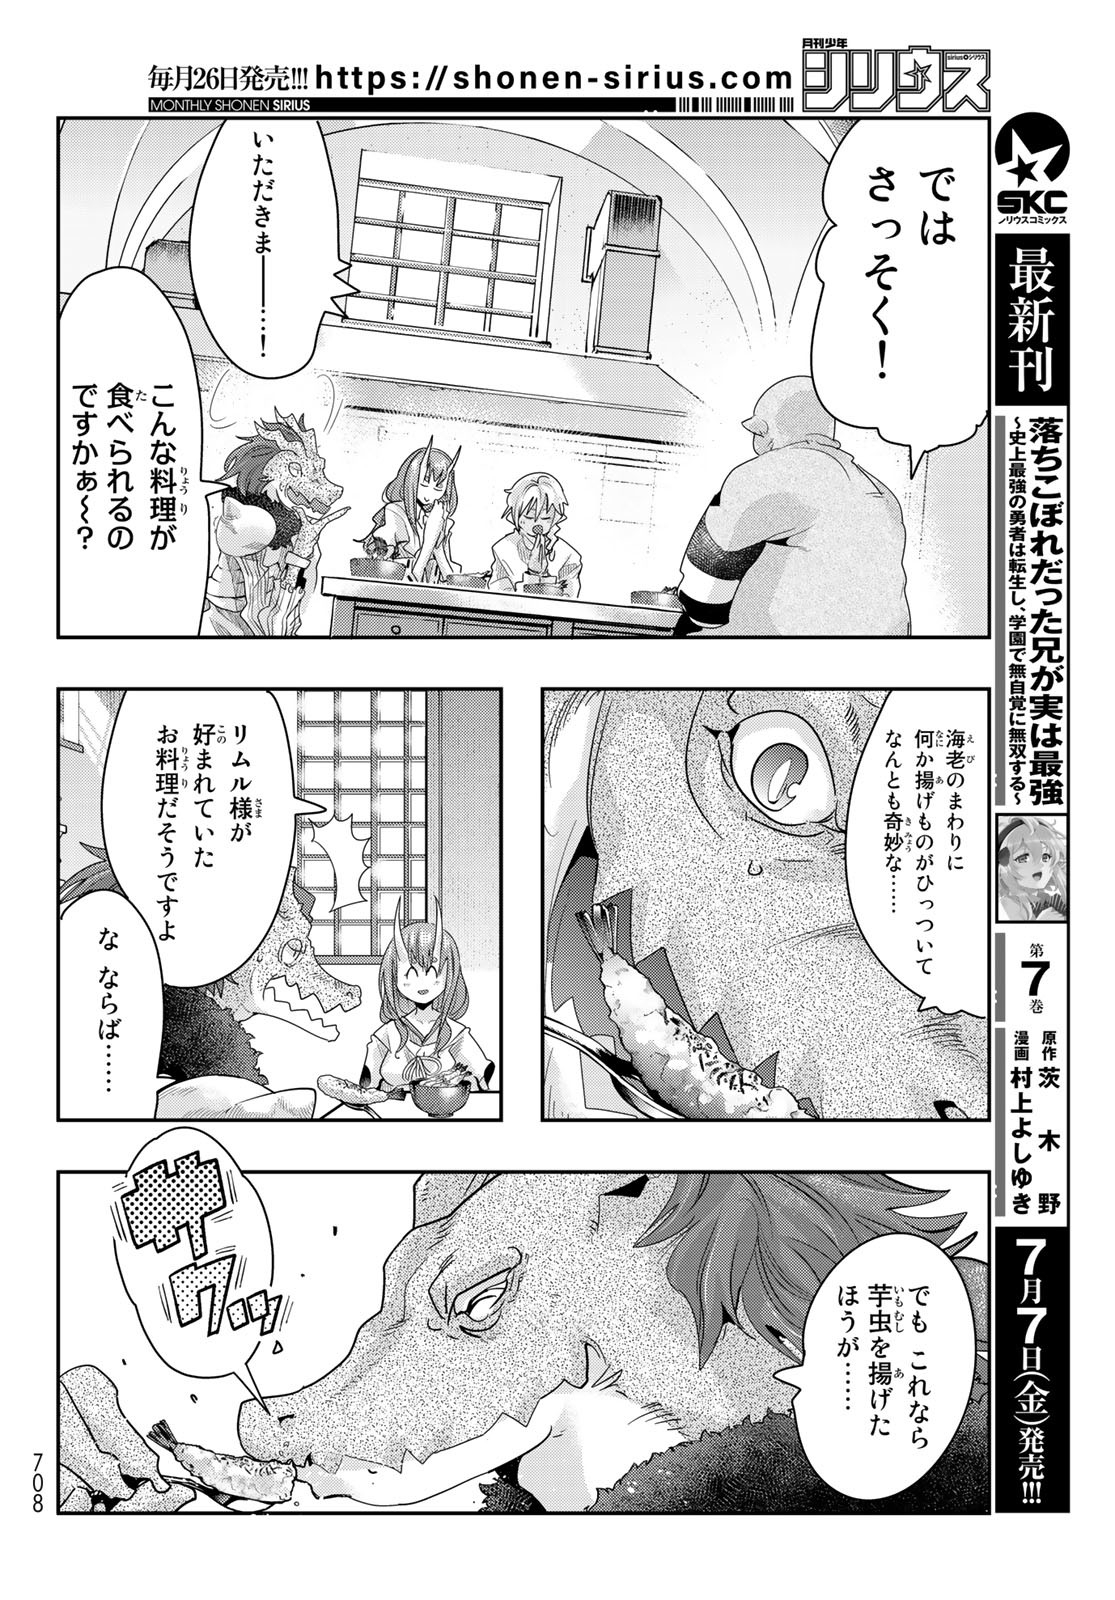bubble: (49, 258, 215, 643), (109, 1128, 314, 1402), (795, 1230, 974, 1488), (192, 120, 353, 374), (51, 886, 174, 1120)
